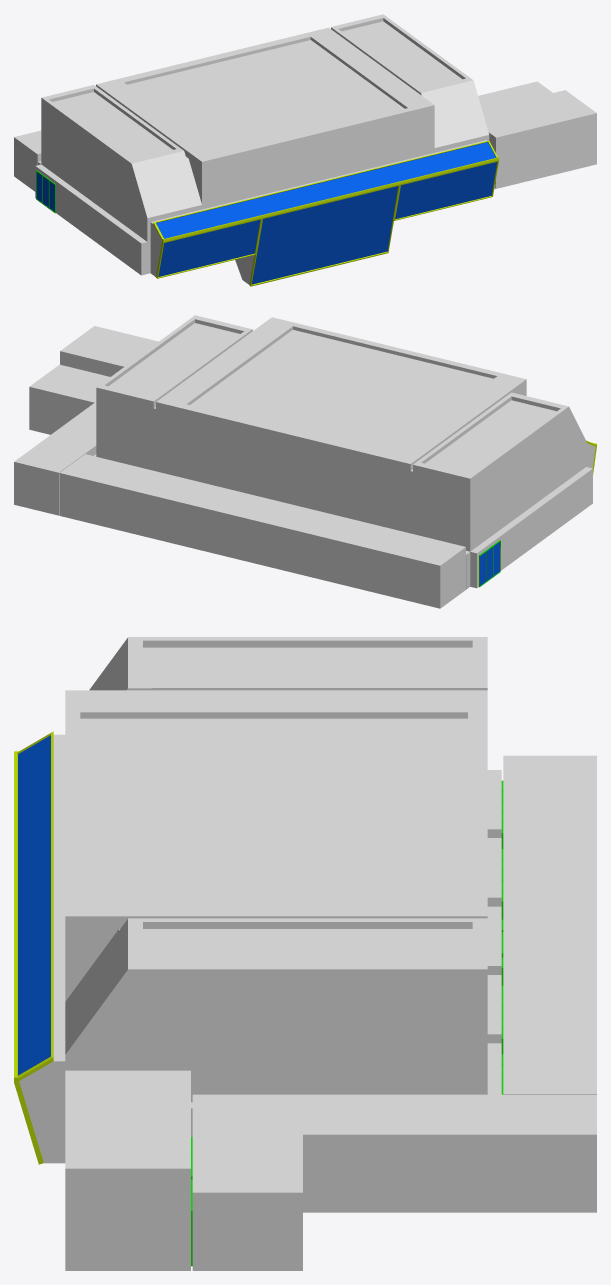
Rendered from QSFacility.fbx.
3 views of the same model, one above another, from view 1: azimuth 30°, elevation 25°; view 2: azimuth 150°, elevation 25°; view 3: azimuth 270°, elevation 25° (orthographic). The views are drawn at different scales.
Visible parts, largest first — view 1: ReactorLevel; view 2: ReactorLevel; view 3: ReactorLevel.
Boxes of the visible parts, x1,y1,x2,y2 form: ReactorLevel: [14, 14, 596, 286]; ReactorLevel: [14, 315, 596, 608]; ReactorLevel: [14, 637, 596, 1270].
Bounding box in the file's own units: 1492 × 423 × 828.
